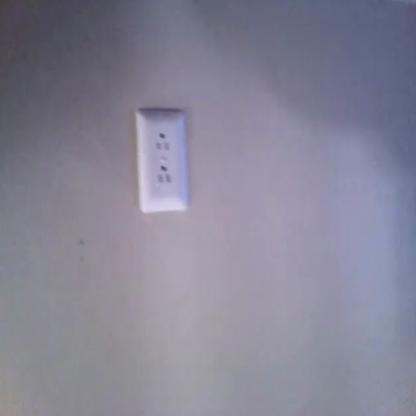OUTLET: (138, 107, 187, 214)
